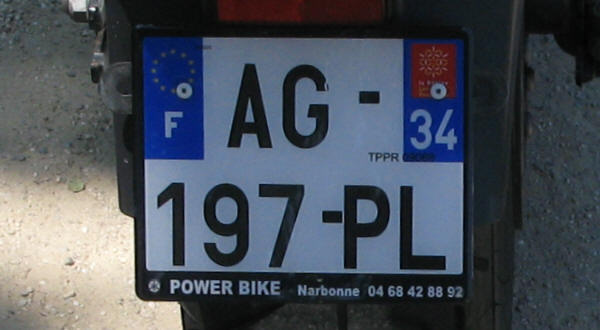license_plate: (133, 25, 473, 303)
